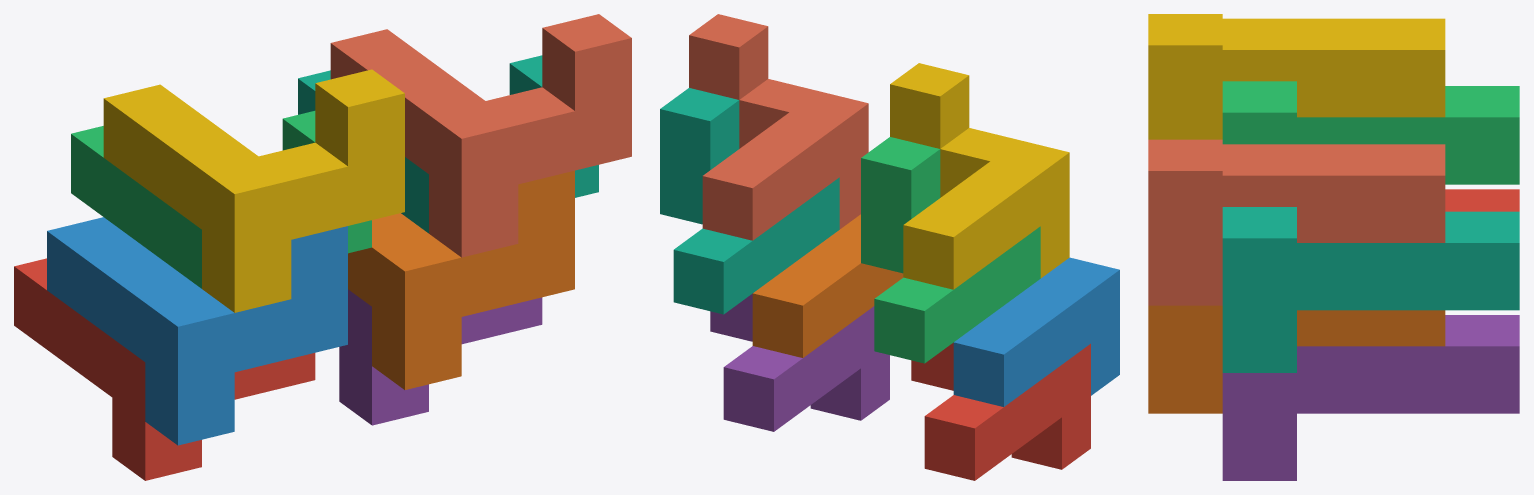
The model's file is tiling.obj.
3 views of the same model, side by side, from view 1: azimuth 30°, elevation 25°; view 2: azimuth 150°, elevation 25°; view 3: azimuth 270°, elevation 25° (orthographic). The views are drawn at different scales.
Parts seen in each view (by area): view 1: copy_1_domain_4, copy_1_domain_8, copy_1_domain_2, copy_1_domain_6, copy_1_domain_1, copy_1_domain_3, copy_1_domain_5, copy_1_domain_7; view 2: copy_1_domain_4, copy_1_domain_8, copy_1_domain_7, copy_1_domain_3, copy_1_domain_2, copy_1_domain_1, copy_1_domain_5, copy_1_domain_6; view 3: copy_1_domain_8, copy_1_domain_7, copy_1_domain_4, copy_1_domain_5, copy_1_domain_3, copy_1_domain_6, copy_1_domain_1.
Boxes of the visible parts, x1,y1,x2,y2 form: copy_1_domain_4: [103, 69, 404, 312]; copy_1_domain_8: [330, 14, 631, 257]; copy_1_domain_2: [47, 217, 347, 445]; copy_1_domain_6: [348, 170, 574, 389]; copy_1_domain_1: [14, 258, 315, 480]; copy_1_domain_3: [71, 111, 371, 288]; copy_1_domain_5: [339, 289, 542, 425]; copy_1_domain_7: [298, 55, 598, 233]; copy_1_domain_4: [890, 63, 1069, 289]; copy_1_domain_8: [689, 14, 868, 240]; copy_1_domain_7: [660, 88, 839, 314]; copy_1_domain_3: [861, 137, 1040, 363]; copy_1_domain_2: [953, 257, 1119, 406]; copy_1_domain_1: [911, 342, 1090, 480]; copy_1_domain_5: [710, 293, 889, 431]; copy_1_domain_6: [752, 214, 903, 357]; copy_1_domain_8: [1148, 139, 1445, 305]; copy_1_domain_7: [1222, 207, 1519, 372]; copy_1_domain_4: [1148, 14, 1445, 139]; copy_1_domain_5: [1222, 315, 1519, 480]; copy_1_domain_3: [1222, 81, 1519, 184]; copy_1_domain_6: [1148, 305, 1445, 413]; copy_1_domain_1: [1445, 189, 1519, 211].
Size of the model in its own units: 8 by 6 by 5.
